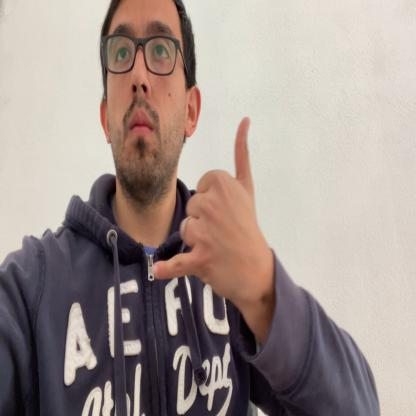Y: (152, 115, 262, 314)
